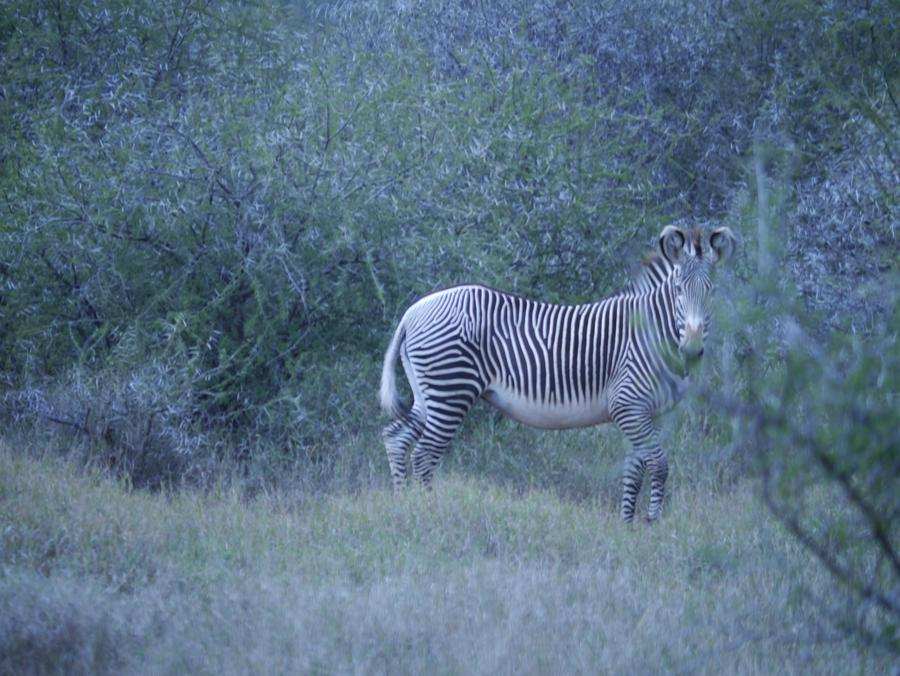zebra_grevys: (396, 274, 663, 411)
